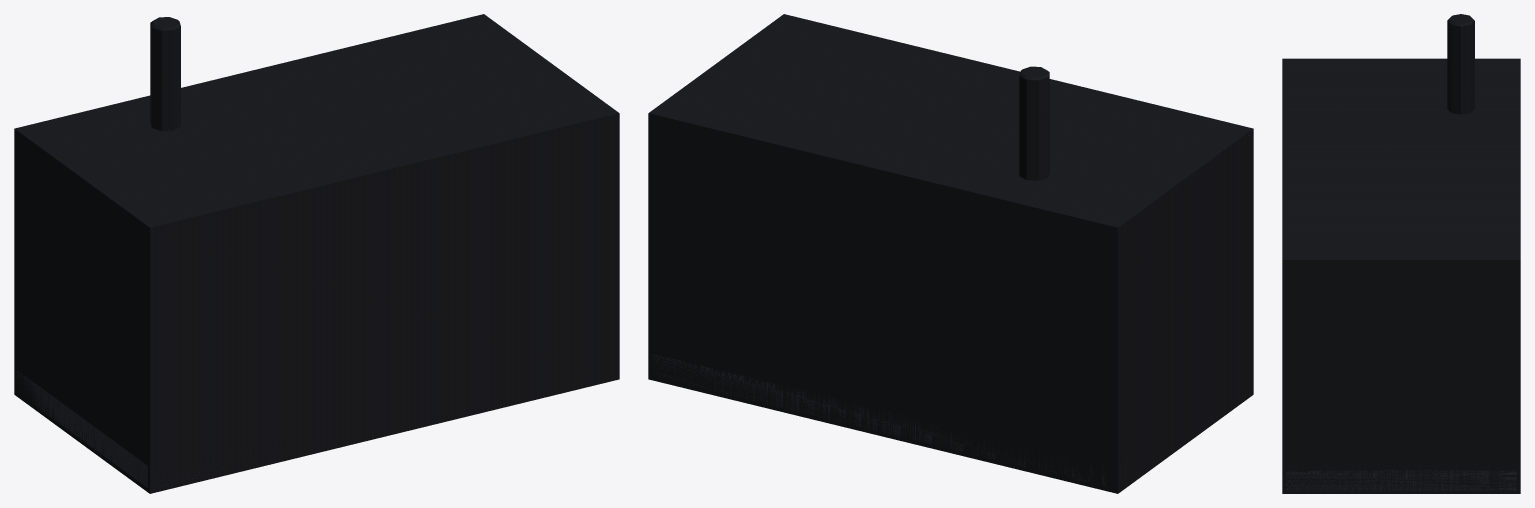
Rendered from kit_generator.glb.
3 views of the same model, side by side, from view 1: azimuth 30°, elevation 25°; view 2: azimuth 150°, elevation 25°; view 3: azimuth 270°, elevation 25° (orthographic). The views are drawn at different scales.
Visible parts, largest first — view 1: gn_COL, gn_exhaust, gn_skid; view 2: gn_COL, gn_skid, gn_exhaust; view 3: gn_COL, gn_skid, gn_exhaust.
Part boxes in pixels (x1,y1,x2,y2): gn_COL: [14, 14, 619, 493]; gn_exhaust: [150, 17, 180, 130]; gn_skid: [16, 371, 238, 487]; gn_COL: [648, 14, 1253, 493]; gn_skid: [652, 354, 1125, 487]; gn_exhaust: [1019, 66, 1049, 180]; gn_COL: [1282, 58, 1520, 493]; gn_skid: [1286, 470, 1516, 490]; gn_exhaust: [1447, 14, 1474, 114].
Size of the model in its own units: 2.4 by 1.8 by 1.2.
4 materials, 4 textured.
